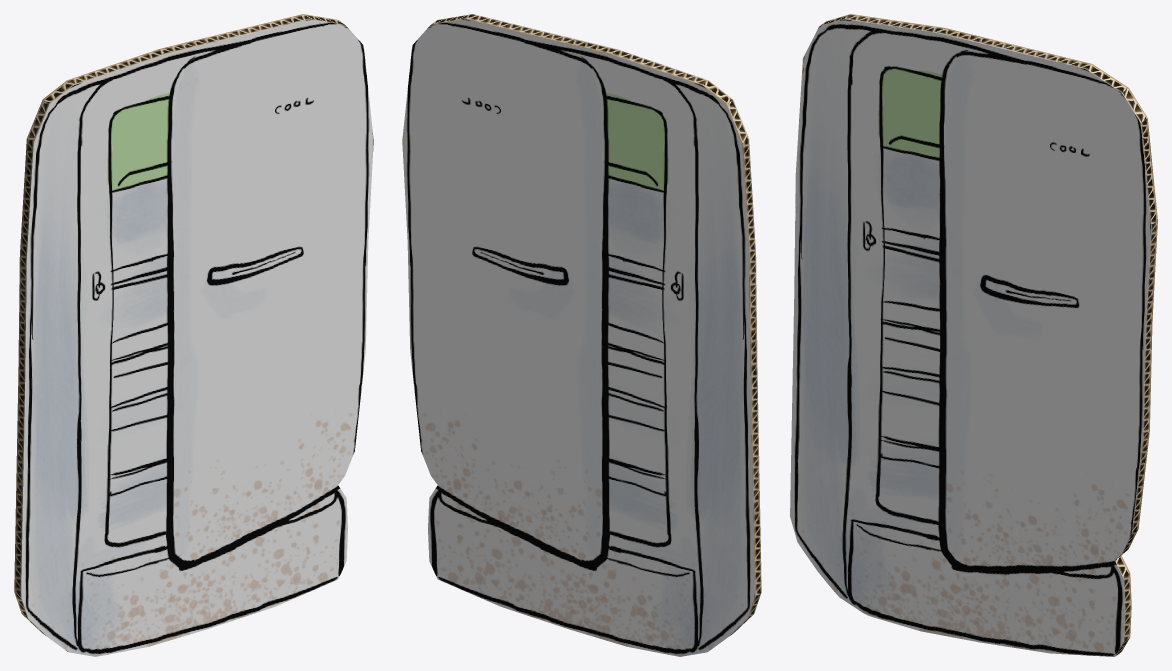
Rendered from fridgeSound.fbx.
The picture shows the model from 3 angles, left to right: view 1: azimuth 30°, elevation 25°; view 2: azimuth 150°, elevation 25°; view 3: azimuth 330°, elevation 25°; orthographic projection. The views are drawn at different scales.
Parts seen in each view (by area): view 1: Plane; view 2: Plane; view 3: Plane.
Boxes of the visible parts, bbox=[...] form: Plane: bbox=[14, 14, 373, 656]; Plane: bbox=[402, 14, 761, 656]; Plane: bbox=[790, 14, 1157, 656].
Bounding box in the file's own units: 4.31 × 6.87 × 0.1446.
